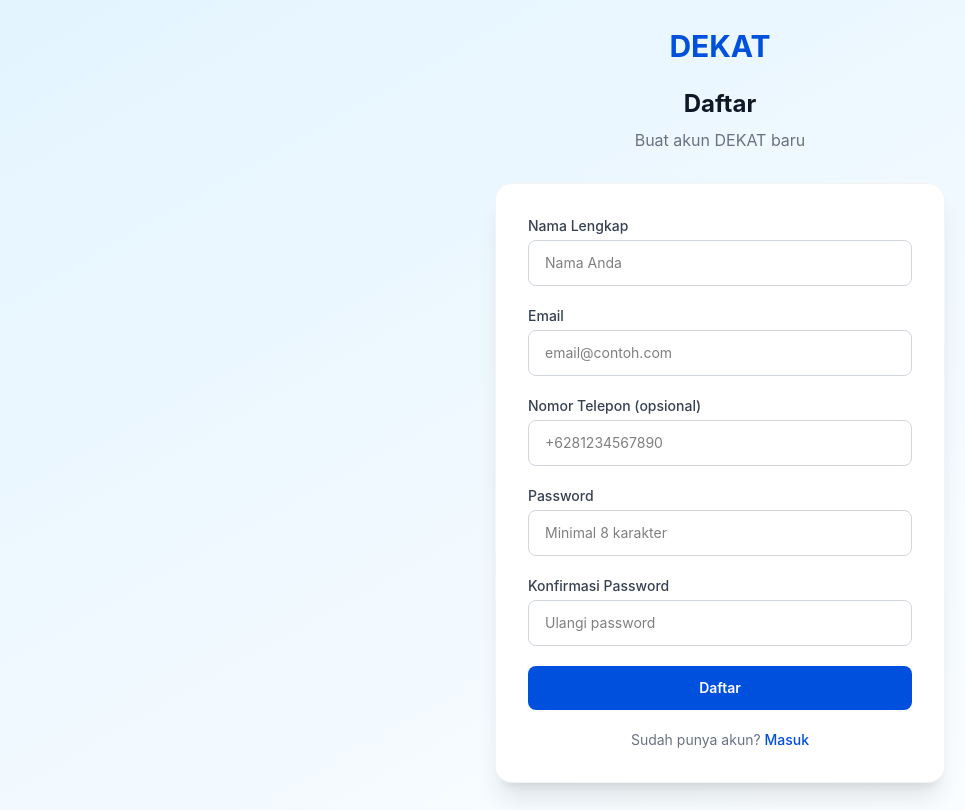
RegisterPage › validates password mismatch
Type "Test User" into the field labelled "Nama Lengkap" at [720, 263], box [528,240,912,286]
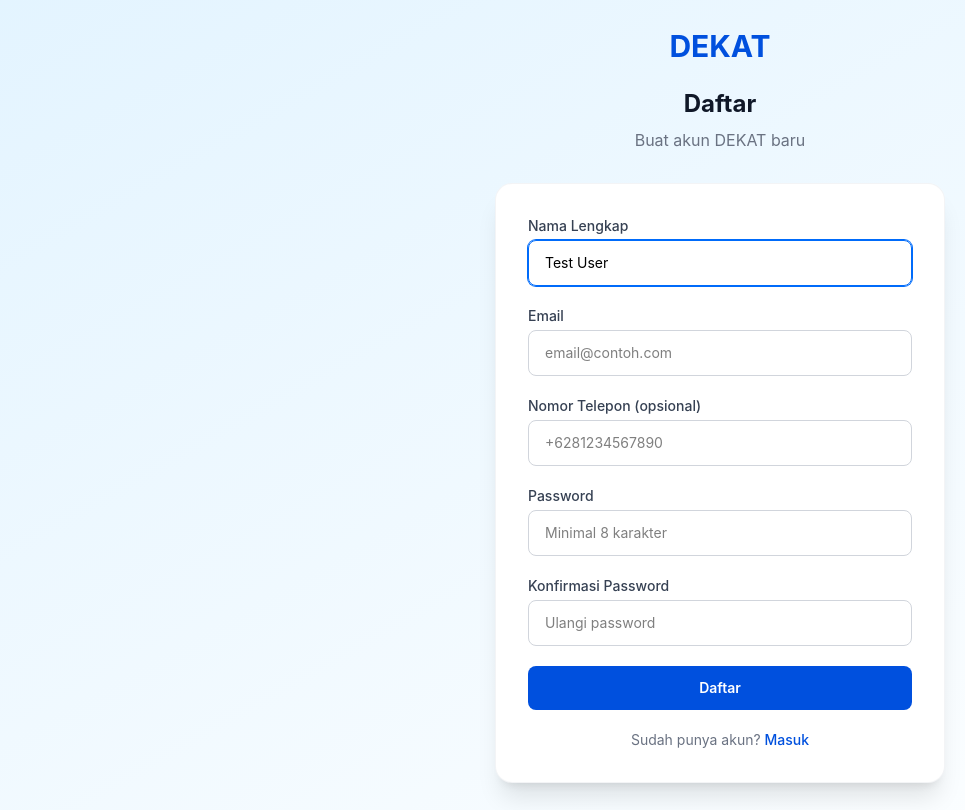
Type "test@example.com" into the field labelled "Email" at [720, 353], box [528,330,912,376]
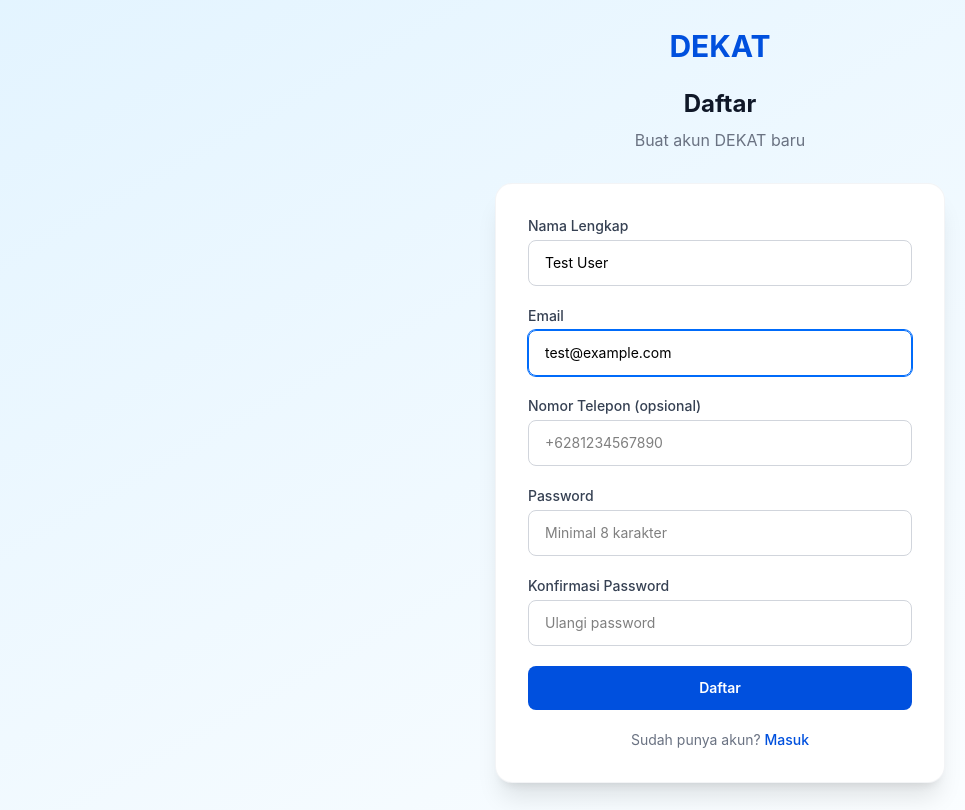
Type "password123" into the password field labelled "Password" at [720, 533], box [528,510,912,556]
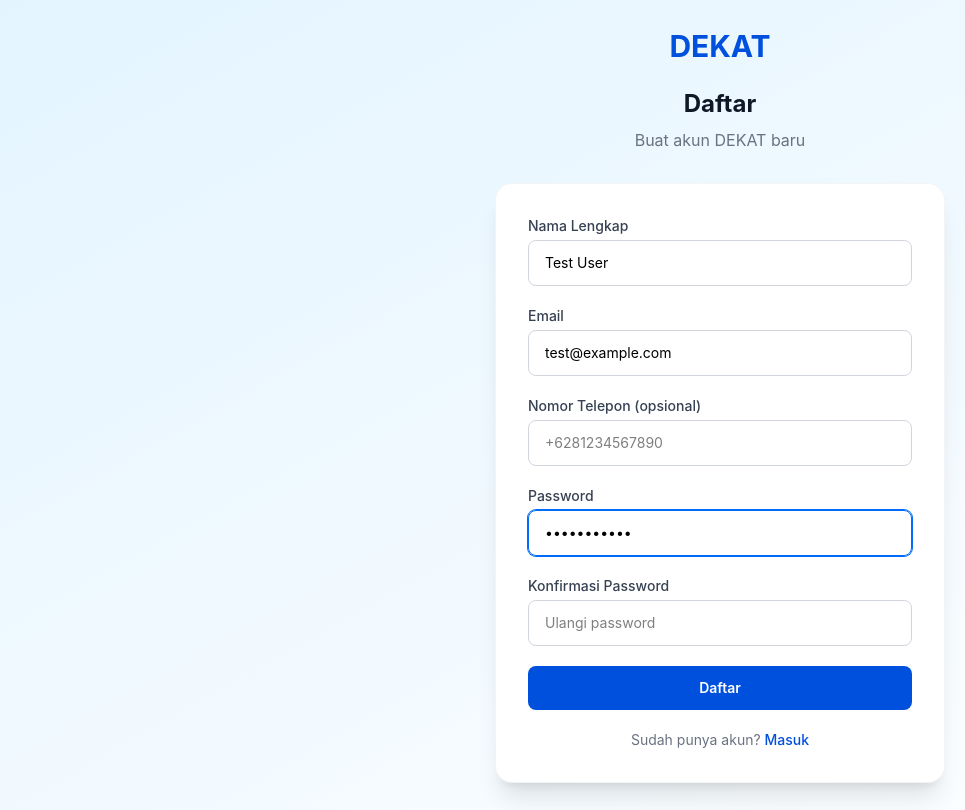
Type "differentpass" into the password field labelled "Konfirmasi Password" at [720, 623], box [528,600,912,646]
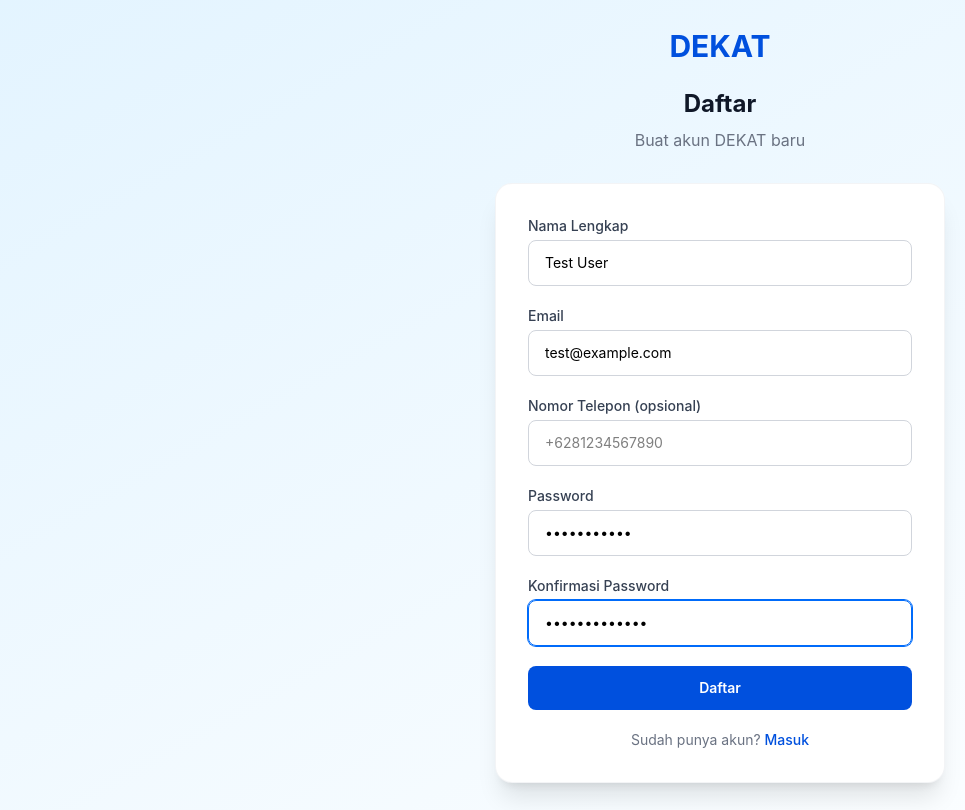
Click the button "Daftar" at [720, 688], box [528,666,912,710]
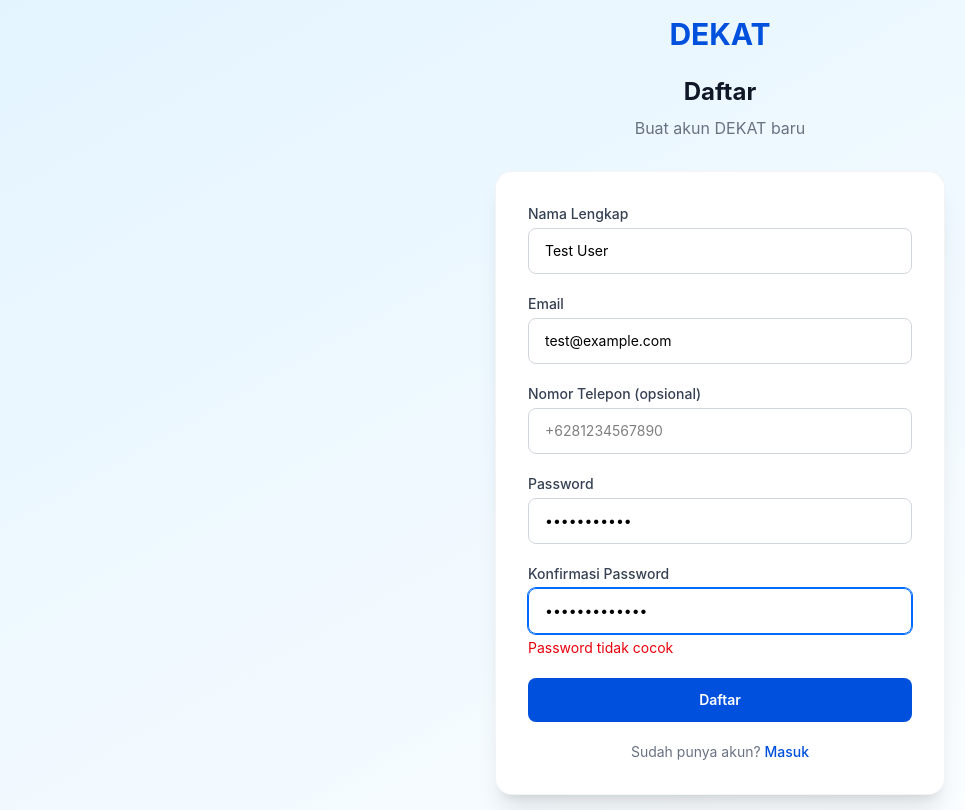
Result: the text "Password tidak cocok" is shown at [528,639,673,656]
